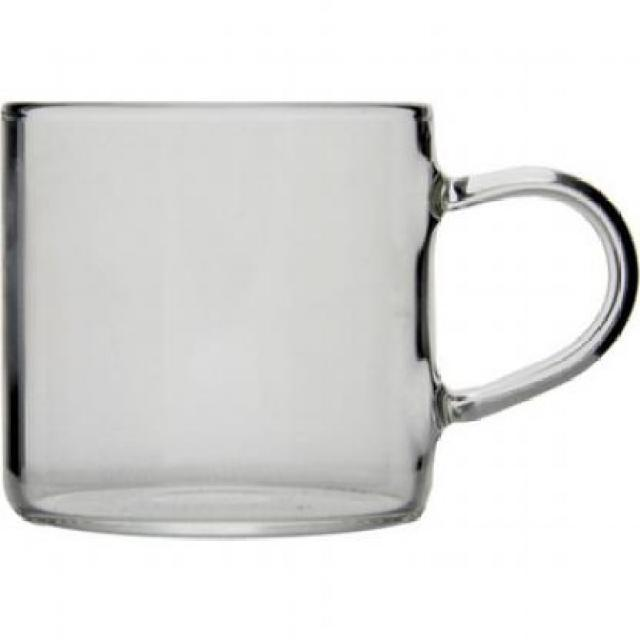taza: (4, 83, 638, 543)
